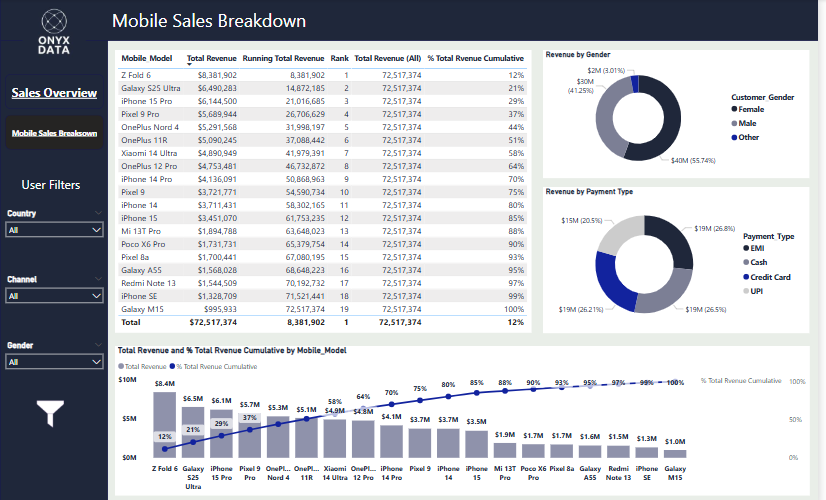

The dashboard page shown, as its layout file describes it:
{"tool":"powerbi","page":{"name":"Mobile Sales Breaksown","canvas":[1450,900],"ordinal":1},"visuals":[{"type":"shape","title":"Dark blue","box":[0,0,191.3,900],"z":0},{"type":"slicer","title":"Slicer Channel","fields":{"Values":["Fact_Sales.Sales_Channel"]},"box":[0,483.4,193.4,84.8],"z":0,"group":"g1"},{"type":"shape","title":"Dark blue","box":[0,0,1450,74.4],"z":1000},{"type":"slicer","title":"Slicer Country","fields":{"Values":["Dim_Locations.Country"]},"box":[0,366.7,193.1,83.3],"z":1000,"group":"g1"},{"type":"slicer","title":"Slicer Gender","fields":{"Values":["Dim_Customer.Customer_Gender"]},"box":[0,600.4,193.4,84.8],"z":2000,"group":"g1"},{"type":"textbox","box":[193.4,9.6,743.7,53.7],"z":3000},{"type":"image","box":[0,0,191,114.6],"z":4000},{"type":"pageNavigator","box":[8.4,133.7,175.5,134.9],"z":5000},{"type":"textbox","box":[7.2,308,165.9,50.1],"z":6000},{"type":"tableEx","fields":{"Values":["Dim_Products.Mobile_Model","Fact_Sales.Total Revenue","Dim_Customer.Running Total Revenue","Fact_Sales.Rank","Dim_Customer.Total Revenue (All)","Dim_Customer.% Total Rvenue Cumulative"]},"box":[203.3,91,737.6,501.4],"z":7000},{"type":"lineStackedColumnComboChart","fields":{"Category":["Dim_Products.Mobile_Model"],"Y":["Fact_Sales.Total Revenue"],"Y2":["Dim_Customer.% Total Rvenue Cumulative"]},"box":[203.3,615.6,1231.2,265.2],"z":8000},{"type":"donutChart","title":"Revenue by Gender","fields":{"Y":["Fact_Sales.Total Revenue"],"Series":["Dim_Customer.Customer_Gender"]},"box":[962.1,91,472.4,226.5],"z":9000},{"type":"donutChart","title":" Revenue by Payment Type","fields":{"Y":["Fact_Sales.Total Revenue"],"Category":["Fact_Sales.Payment_Type"]},"box":[962.1,333,472.4,259.4],"z":10000},{"type":"image","box":[56.9,704.7,65,60.9],"z":12000},{"type":"group","id":"g1","title":"All Slicers","box":[0,366.7,193.4,318.5],"z":13000}]}

Visuals, with their boxes in screenshot pixels (x1, y1, x2, y2), scaled from the page's 1450x900 canvas onto the 826x500 screenshot:
"Dark blue" shape: Rect(0, 0, 109, 499)
"Slicer Channel" slicer: Rect(0, 269, 110, 316)
"Dark blue" shape: Rect(0, 0, 825, 41)
"Slicer Country" slicer: Rect(0, 204, 110, 250)
"Slicer Gender" slicer: Rect(0, 334, 110, 381)
textbox: Rect(110, 5, 534, 35)
image: Rect(0, 0, 109, 64)
pageNavigator: Rect(5, 74, 105, 149)
textbox: Rect(4, 171, 99, 199)
tableEx - Dim_Products.Mobile_Model x Fact_Sales.Total Revenue: Rect(116, 51, 536, 329)
lineStackedColumnComboChart - Dim_Products.Mobile_Model x Fact_Sales.Total Revenue: Rect(116, 342, 817, 489)
"Revenue by Gender" donutChart: Rect(548, 51, 817, 176)
" Revenue by Payment Type" donutChart: Rect(548, 185, 817, 329)
image: Rect(32, 392, 69, 425)
"All Slicers" group: Rect(0, 204, 110, 381)
